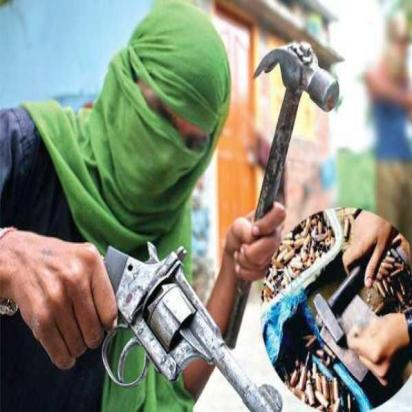Gun: (24, 230, 288, 411)
